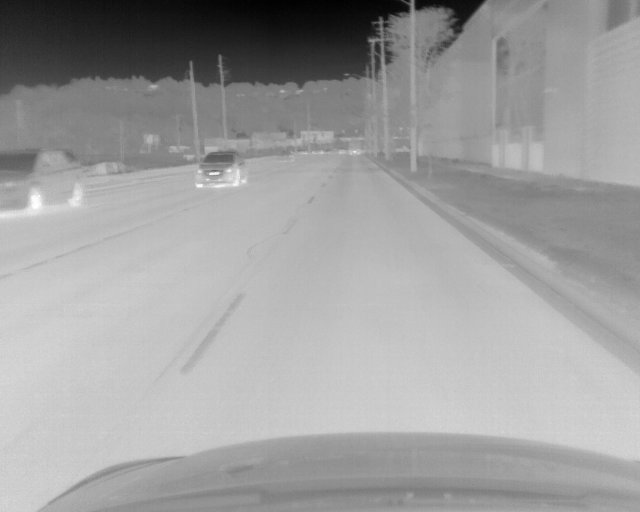car: (1, 148, 87, 213), (194, 152, 248, 189)
